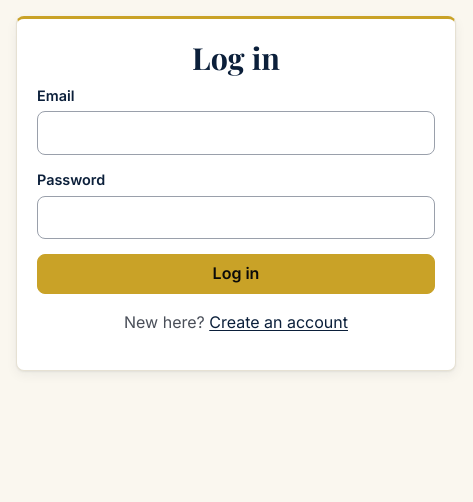
Test: Login › explains that a pending recruiter must be approved
Type "rec@acme.io" into the field labelled "Email" at (236, 133), box [37,111,435,155]
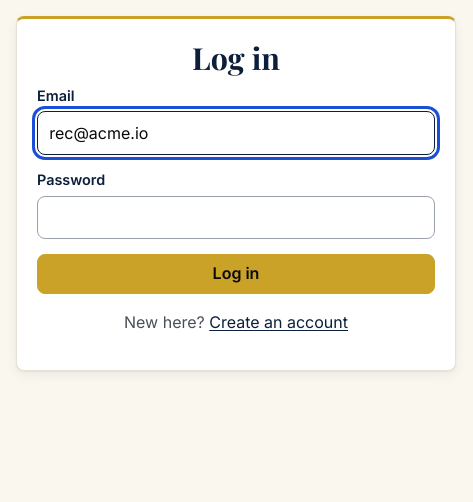
Type "Recruit123" into the password field labelled "Password" at (236, 218), box [37,196,435,239]
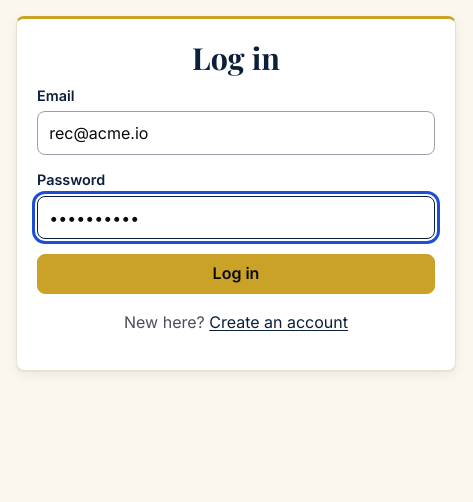
Click the button "Log in" at (236, 274), box [37,254,435,294]
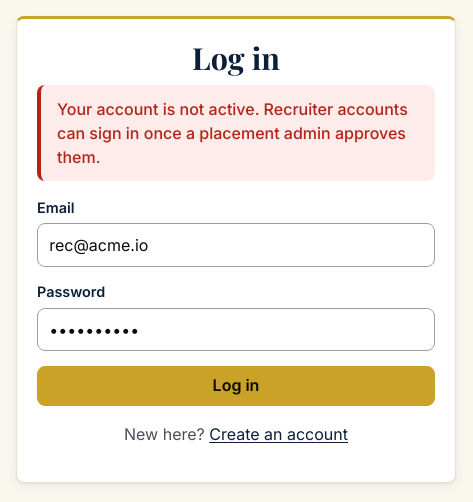
Check: the message shows "approves them", box [57,99,408,167]
